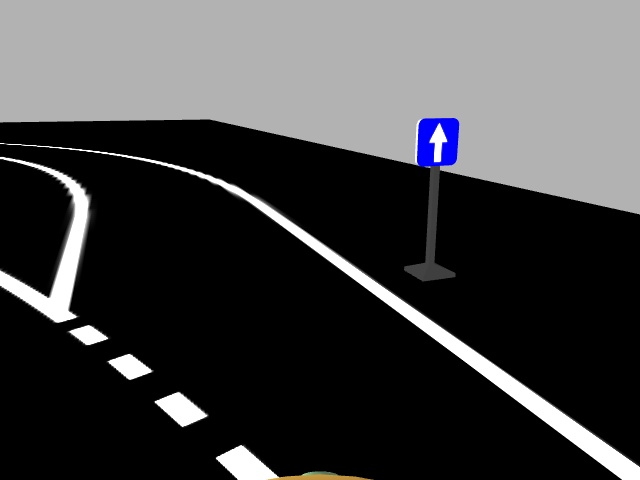OneWay: (416, 116, 458, 164)
